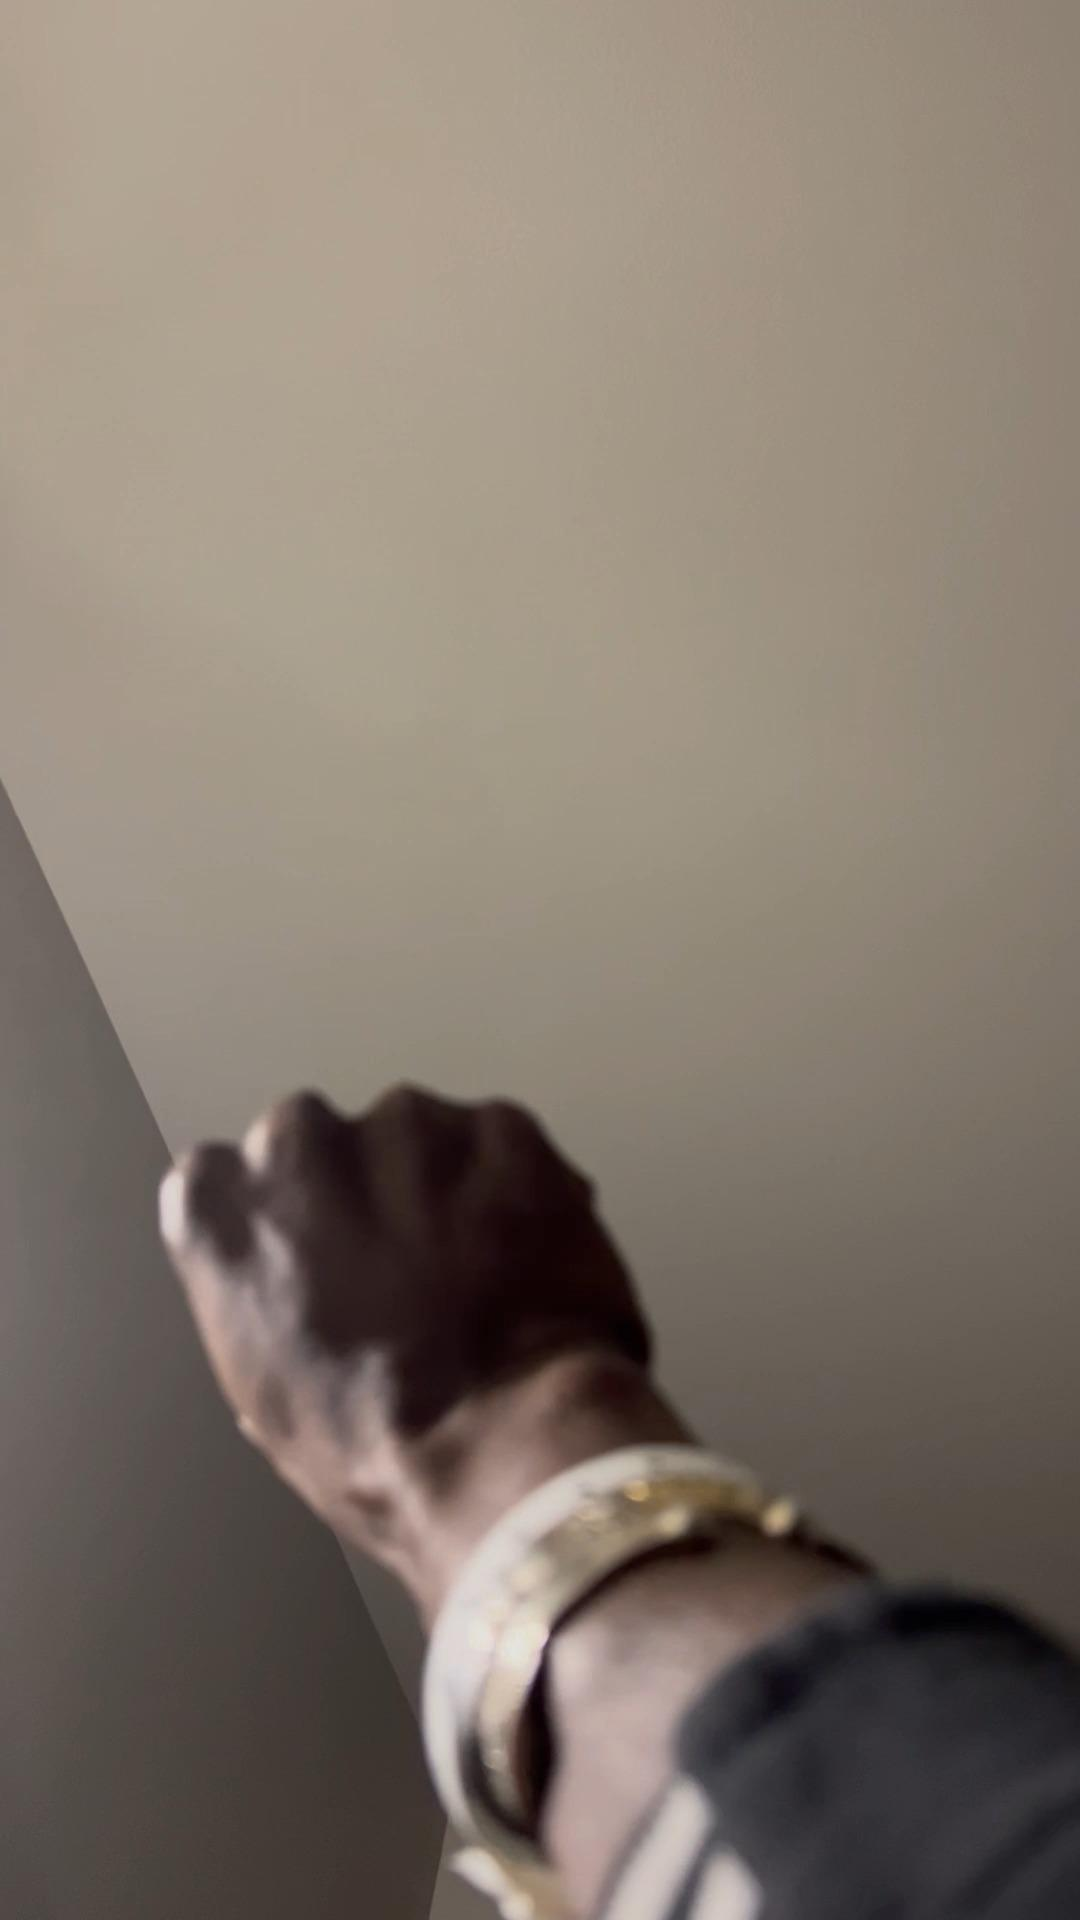Rock: (153, 1076, 662, 1564)
